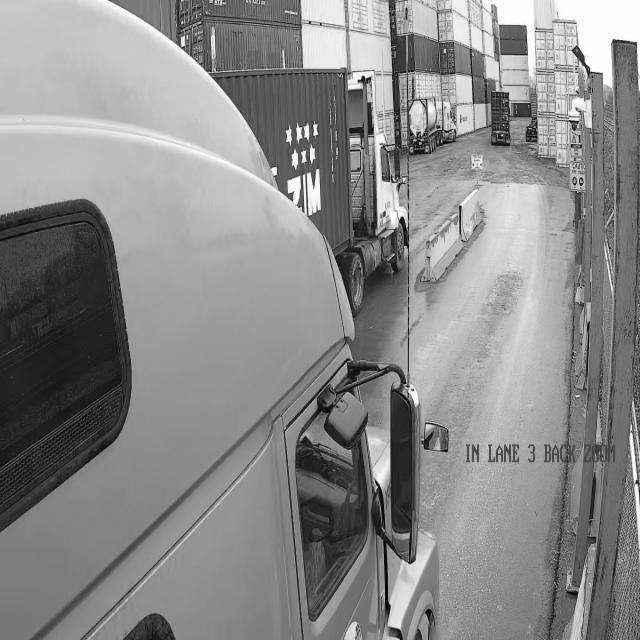truck_cabin: (0, 0, 448, 639)
truck_with_container: (212, 69, 408, 316), (408, 98, 456, 153)
